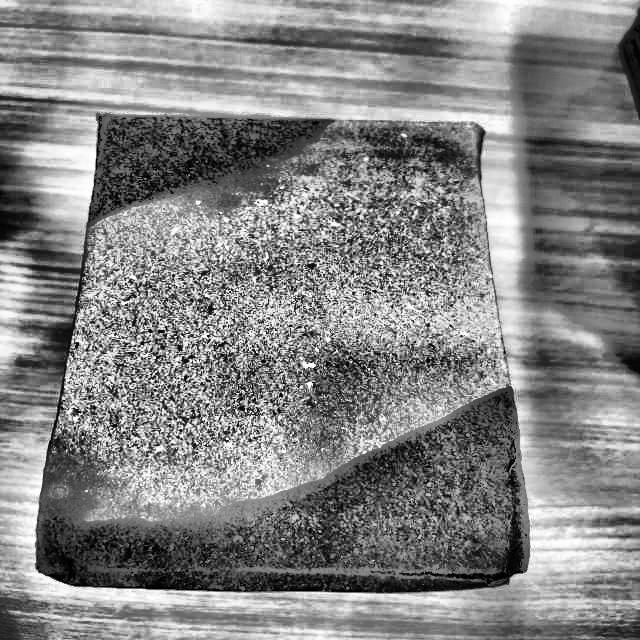box: (31, 109, 536, 588)
wet: (37, 387, 528, 591), (85, 112, 340, 213)
